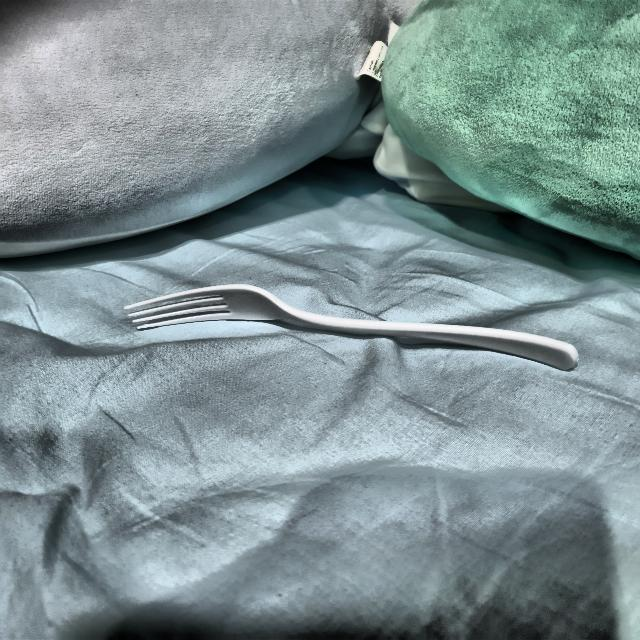plastic utensil: (121, 280, 578, 375)
